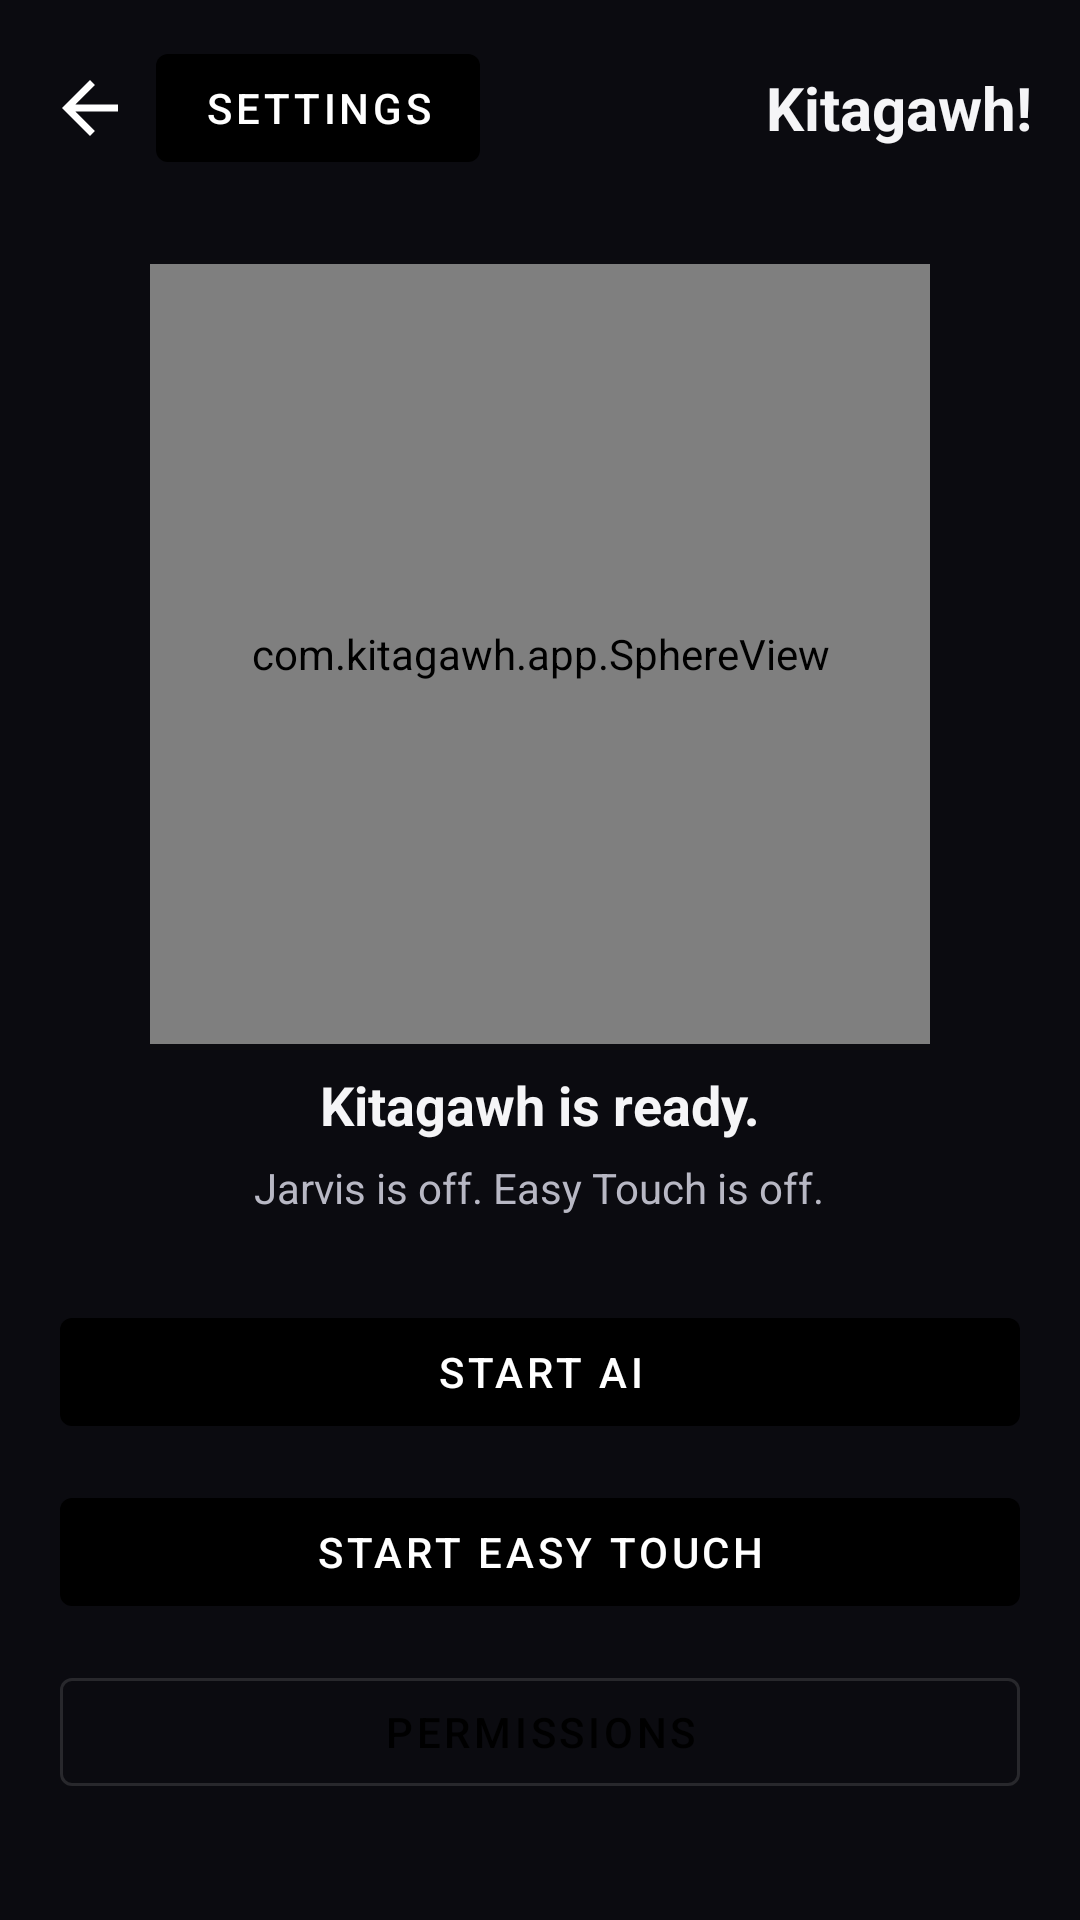

Screen size 1080w x 1920h. Icon name, then its center in pixels as point (x, y):
Back: point (90, 108)
